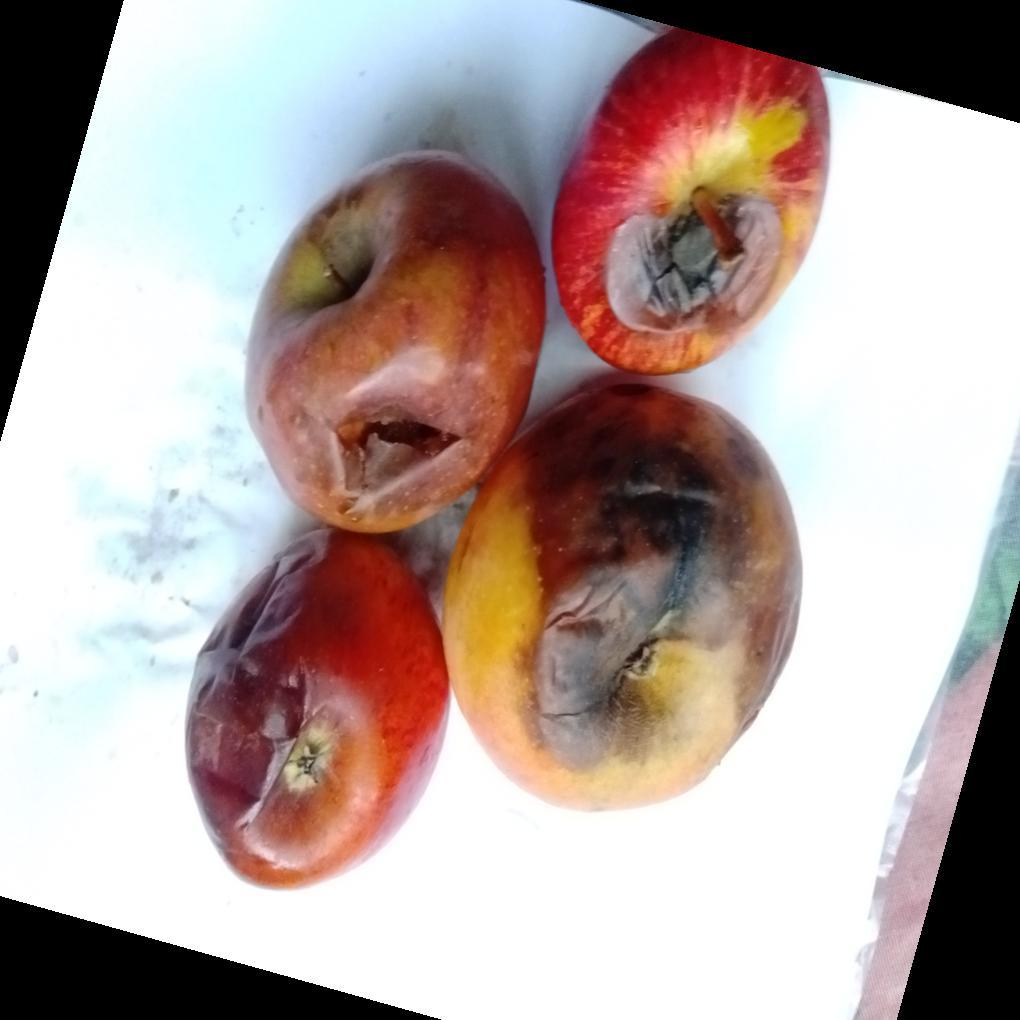FreshOrange: (185, 30, 831, 894)
